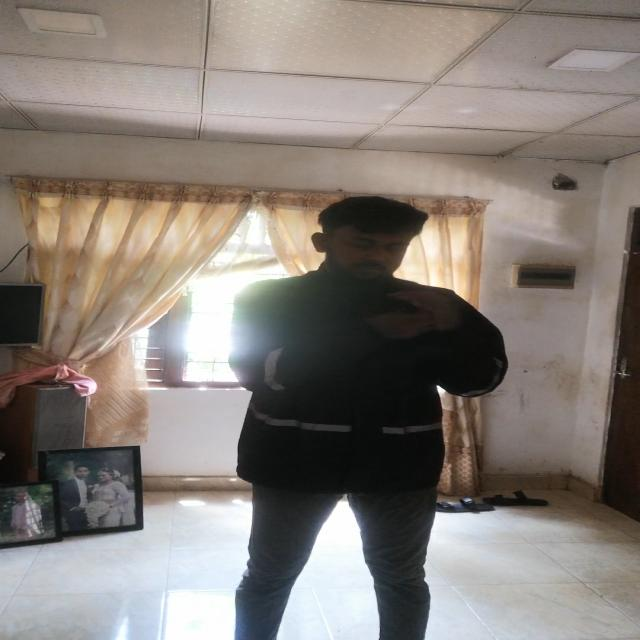Jacket_Wearer: (215, 264, 514, 502)
Person: (216, 193, 513, 640)
